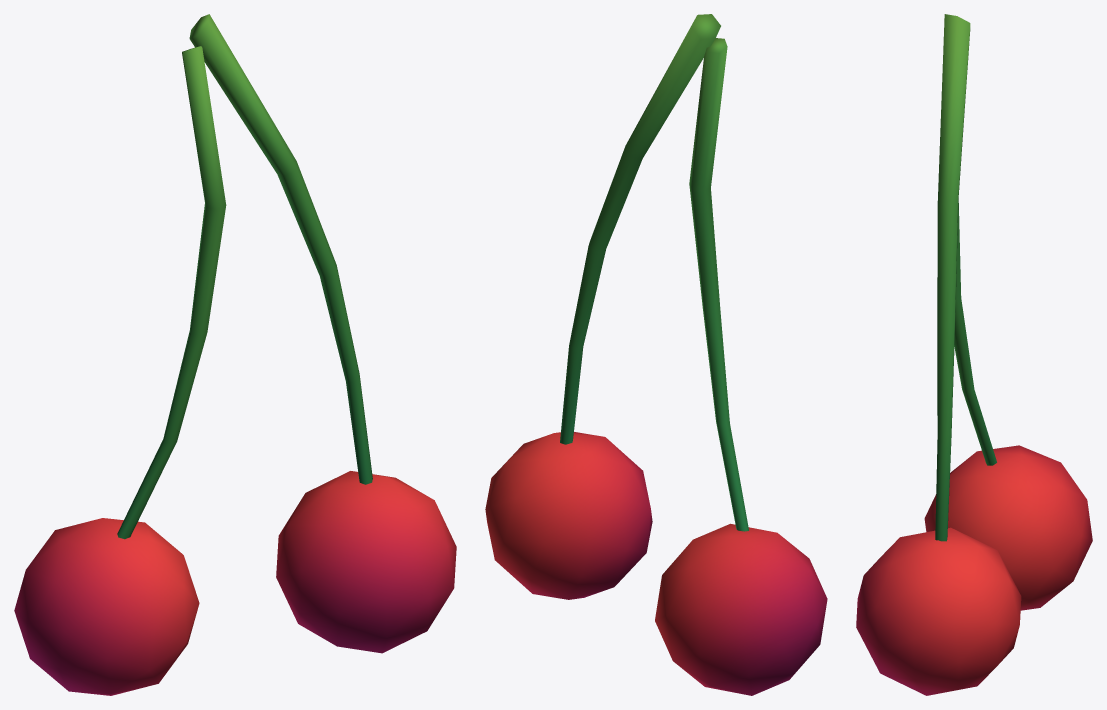
File: cherry_001.fbx
The picture shows the model from 3 angles, left to right: view 1: azimuth 30°, elevation 25°; view 2: azimuth 150°, elevation 25°; view 3: azimuth 270°, elevation 25°; orthographic projection. The views are drawn at different scales.
Parts seen in each view (by area): view 1: cherry_001; view 2: cherry_001; view 3: cherry_001.
Boxes of the visible parts, x1,y1,x2,y2 form: cherry_001: (14, 14, 456, 695); cherry_001: (485, 14, 827, 695); cherry_001: (856, 14, 1092, 695).
Size of the model in its own units: 6.92 by 4.09 by 11.87.
